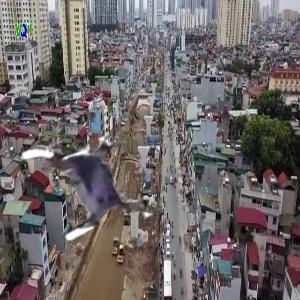drone: (23, 120, 153, 250)
